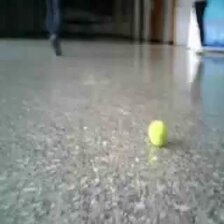tennis: (148, 118, 169, 147)
